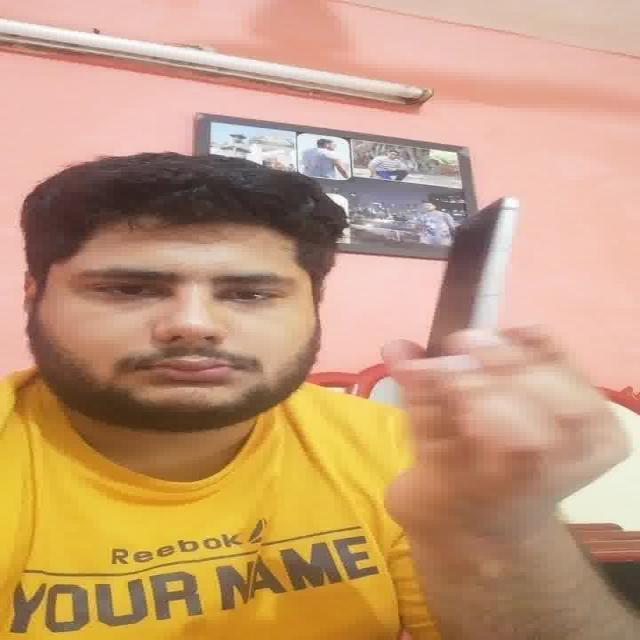Phone: (427, 190, 523, 368)
